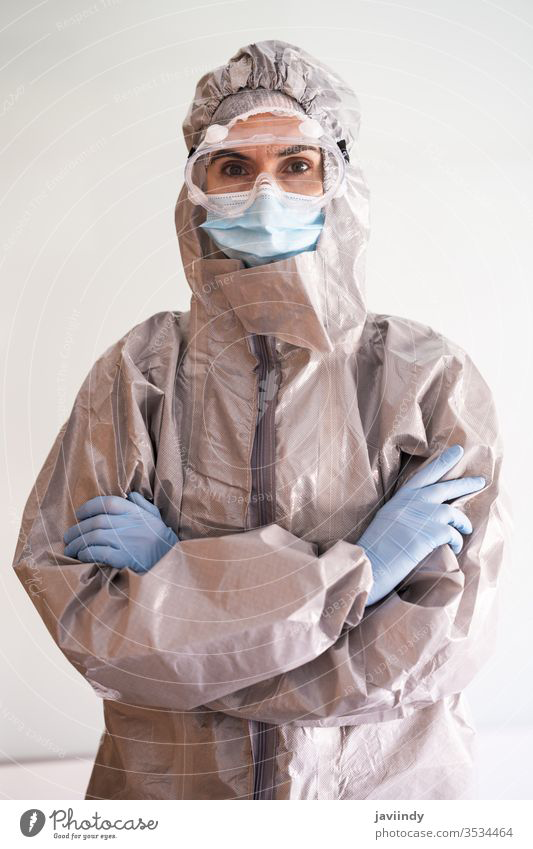Coverall: (30, 38, 518, 800)
Gloves: (349, 444, 492, 606), (60, 486, 174, 579)
Goggles: (183, 138, 352, 207)
with_mask: (202, 154, 329, 261)
